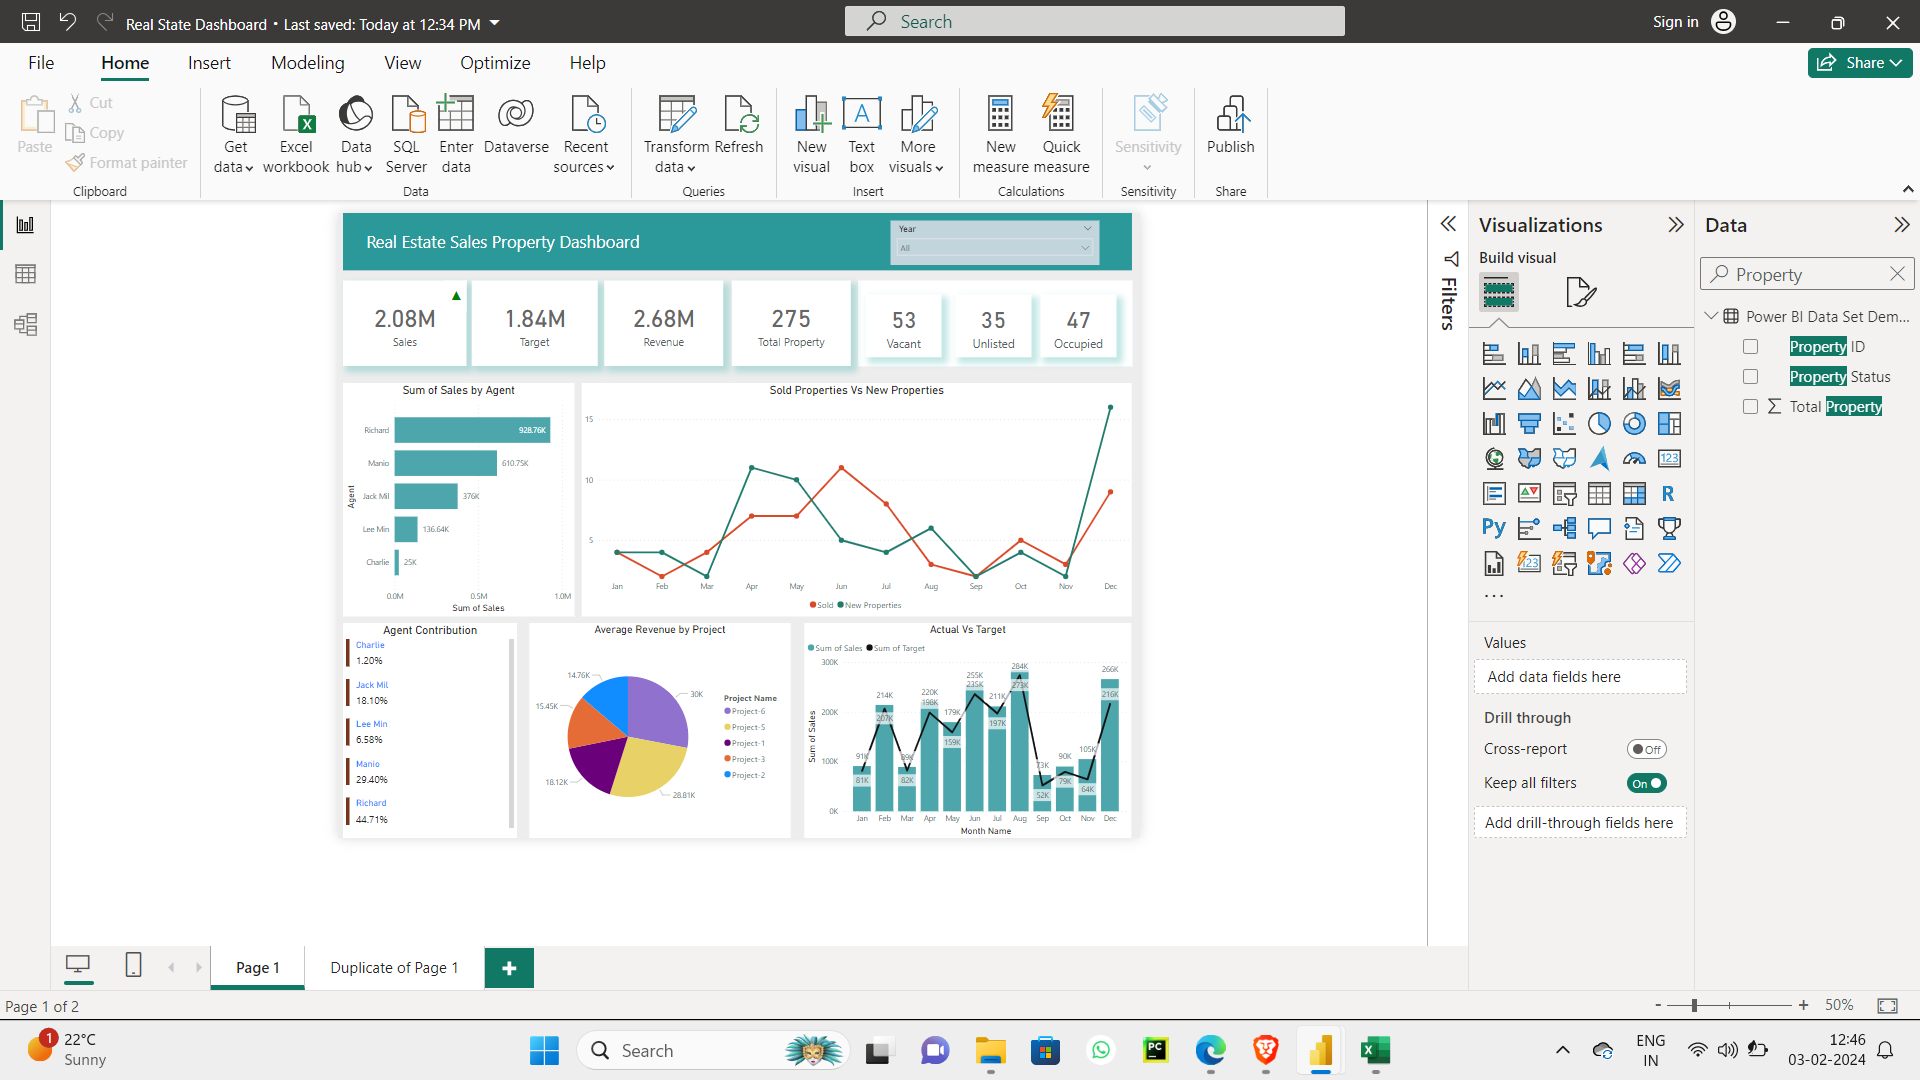

The dashboard page shown, as its layout file describes it:
{"tool":"powerbi","page":{"name":"Page 1","canvas":[1284,1000],"ordinal":0},"visuals":[{"type":"shape","box":[8.3,0,1262.4,91.8],"z":0},{"type":"textbox","box":[39.3,22.6,549.5,48.9],"z":1000},{"type":"card","fields":{"Values":["Power BI Data Set Demo xlsx - Real Estate Data.Sales"]},"box":[8.3,107.3,197.9,137.1],"z":2000},{"type":"card","fields":{"Values":["Power BI Data Set Demo xlsx - Real Estate Data.Target"]},"box":[214.6,108.5,201.5,137.1],"z":3000},{"type":"card","fields":{"Values":["Power BI Data Set Demo xlsx - Real Estate Data.Revenue"]},"box":[426.7,108.5,190.7,137.1],"z":4000},{"type":"textbox","box":[831.6,108,438.9,137.4],"z":5000},{"type":"card","fields":{"Values":["Power BI Data Set Demo xlsx - Real Estate Data.Total Property"]},"box":[629.4,108.5,190.7,137.1],"z":6000},{"type":"card","fields":{"Values":["Power BI Data Set Demo xlsx - Real Estate Data.Property Status"]},"box":[844.2,130.4,122,101],"z":7000},{"type":"card","fields":{"Values":["Power BI Data Set Demo xlsx - Real Estate Data.Property Status"]},"box":[987.2,130.4,122,101],"z":8000},{"type":"card","fields":{"Values":["Power BI Data Set Demo xlsx - Real Estate Data.Property Status"]},"box":[1123.2,130.4,122,101],"z":9000},{"type":"barChart","fields":{"Category":["Power BI Data Set Demo xlsx - Real Estate Data.Agent"],"Y":["Power BI Data Set Demo xlsx - Real Estate Data.Sales"]},"box":[8.3,271.7,370,373.3],"z":10000},{"type":"lineChart","title":"Sold Properties Vs  New Properties ","fields":{"Y":["Power BI Data Set Demo xlsx - Real Estate Data.Sold","Power BI Data Set Demo xlsx - Real Estate Data.New Properties"],"Category":["DimDate.Month Name"]},"box":[390,271.7,880,373.3],"z":11000},{"type":"multiRowCard","title":"Agent Contribution","fields":{"Values":["Power BI Data Set Demo xlsx - Real Estate Data.Agent","Power BI Data Set Demo xlsx - Real Estate Data.Agent Contribution"]},"box":[8.3,655,278.3,345],"z":12000},{"type":"pieChart","title":"Average Revenue by Project","fields":{"Category":["Power BI Data Set Demo xlsx - Real Estate Data.Project Name"],"Y":["Power BI Data Set Demo xlsx - Real Estate Data.Revenue"]},"box":[306.7,655,418.3,345],"z":13000},{"type":"lineStackedColumnComboChart","title":"Actual Vs Target","fields":{"Category":["DimDate.Month Name"],"Y":["Power BI Data Set Demo xlsx - Real Estate Data.Sales"],"Y2":["Power BI Data Set Demo xlsx - Real Estate Data.Target"]},"box":[746.7,655,523.3,345],"z":14000},{"type":"slicer","fields":{"Values":["DimDate.Date.Variation.Date Hierarchy.Year"]},"box":[884.3,11.4,334.3,71.4],"z":15000},{"type":"card","fields":{"Values":["Power BI Data Set Demo xlsx - Real Estate Data.Icon Sales"]},"box":[172.5,108.8,33.8,50],"z":16000}]}

Visuals, with their boxes on the page's 1284x1000 design canvas (x1, y1, x2, y2). These are canvas units, not pixel positions in the 1920x1080 screenshot, which may show the page scaled, cropped or inside an application window:
shape: {"left": 8, "top": 0, "right": 1271, "bottom": 92}
textbox: {"left": 39, "top": 23, "right": 589, "bottom": 72}
card - Power BI Data Set Demo xlsx - Real Estate Data.Sales: {"left": 8, "top": 107, "right": 206, "bottom": 244}
card - Power BI Data Set Demo xlsx - Real Estate Data.Target: {"left": 215, "top": 108, "right": 416, "bottom": 246}
card - Power BI Data Set Demo xlsx - Real Estate Data.Revenue: {"left": 427, "top": 108, "right": 617, "bottom": 246}
textbox: {"left": 832, "top": 108, "right": 1270, "bottom": 245}
card - Power BI Data Set Demo xlsx - Real Estate Data.Total Property: {"left": 629, "top": 108, "right": 820, "bottom": 246}
card - Power BI Data Set Demo xlsx - Real Estate Data.Property Status: {"left": 844, "top": 130, "right": 966, "bottom": 231}
card - Power BI Data Set Demo xlsx - Real Estate Data.Property Status: {"left": 987, "top": 130, "right": 1109, "bottom": 231}
card - Power BI Data Set Demo xlsx - Real Estate Data.Property Status: {"left": 1123, "top": 130, "right": 1245, "bottom": 231}
barChart - Power BI Data Set Demo xlsx - Real Estate Data.Agent x Power BI Data Set Demo xlsx - Real Estate Data.Sales: {"left": 8, "top": 272, "right": 378, "bottom": 645}
"Sold Properties Vs  New Properties " lineChart: {"left": 390, "top": 272, "right": 1270, "bottom": 645}
"Agent Contribution" multiRowCard: {"left": 8, "top": 655, "right": 287, "bottom": 1000}
"Average Revenue by Project" pieChart: {"left": 307, "top": 655, "right": 725, "bottom": 1000}
"Actual Vs Target" lineStackedColumnComboChart: {"left": 747, "top": 655, "right": 1270, "bottom": 1000}
slicer - DimDate.Date.Variation.Date Hierarchy.Year: {"left": 884, "top": 11, "right": 1219, "bottom": 83}
card - Power BI Data Set Demo xlsx - Real Estate Data.Icon Sales: {"left": 172, "top": 109, "right": 206, "bottom": 159}
